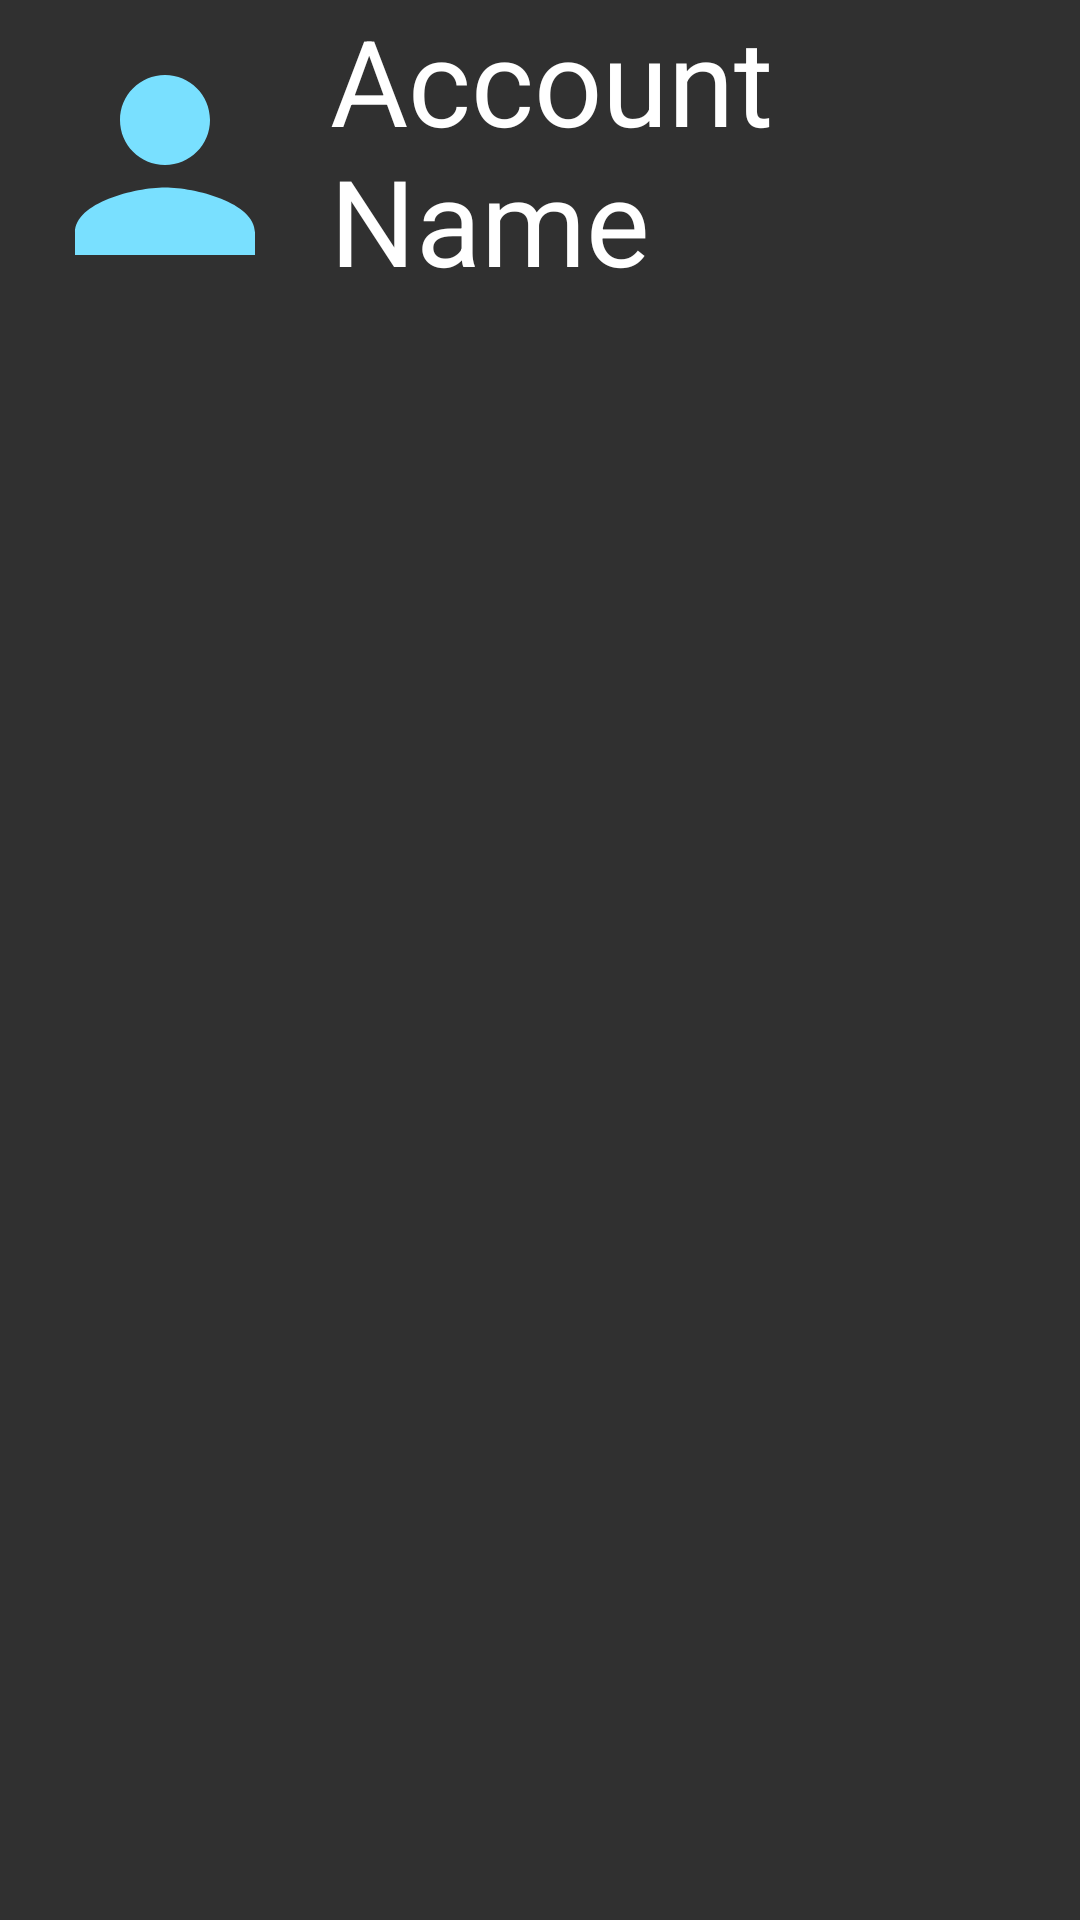

Icons on this 1080px×1920px Android screen, each with the point to tap as point (x, y):
artist: point (165, 165)
